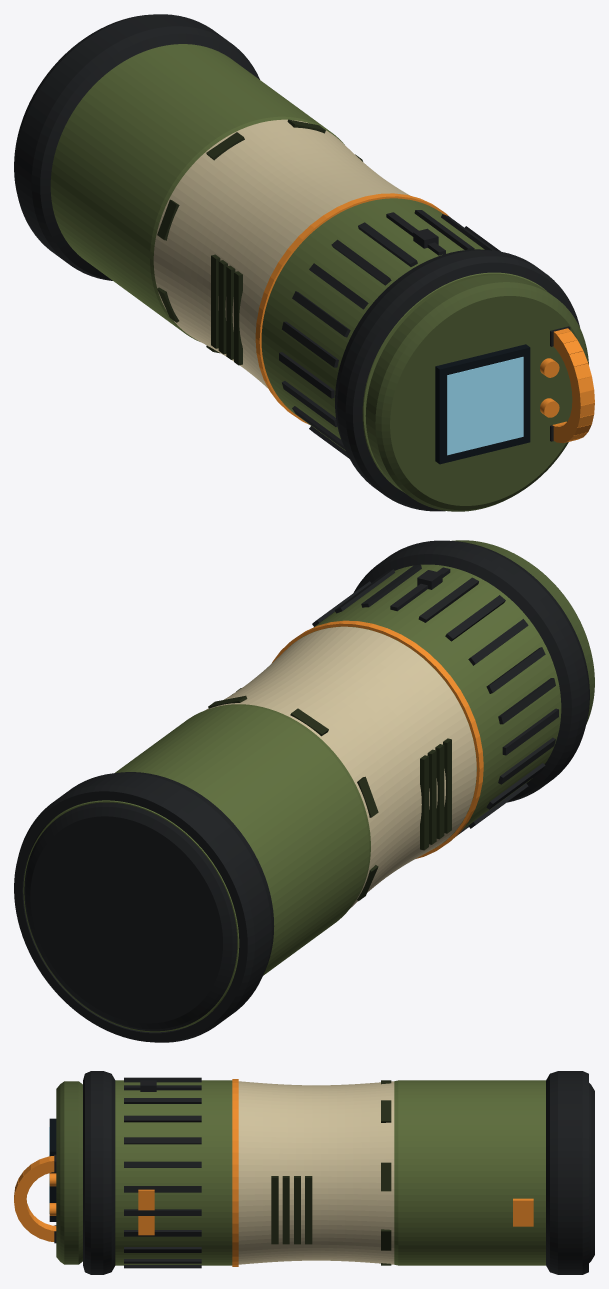
File: thermox_bottle_trail.obj
The picture shows the model from 3 angles, top to bottom: view 1: azimuth 30°, elevation 25°; view 2: azimuth 150°, elevation 25°; view 3: azimuth 270°, elevation 25°; orthographic projection. The views are drawn at different scales.
Parts seen in each view (by area): view 1: body_lower, lid, body_waist, body_upper, bumper_bottom, bumper_top, oled_screen, oled_1_5in, accent_ring, exhaust_slot_rear_2, exhaust_slot_rear_1, exhaust_slot_rear_3 (+5 smaller); view 2: base_pad, body_lower, body_waist, body_upper, bumper_bottom, bumper_top, accent_ring, lid, exhaust_slot_rear_3, exhaust_slot_rear_1, exhaust_slot_rear_2, exhaust_slot_rear_4 (+4 smaller); view 3: body_lower, body_waist, body_upper, bumper_bottom, bumper_top, lid, accent_ring, base_pad, nameplate, grip_rib_04, grip_rib_05, usb_cover (+16 smaller).
Part boxes in pixels (left/top/right/bottom): body_lower: left=50, top=44, right=344, bottom=341; lid: left=365, top=275, right=588, bottom=511; body_waist: left=153, top=119, right=409, bottom=388; body_upper: left=261, top=198, right=546, bottom=490; bumper_bottom: left=14, top=14, right=259, bottom=280; bumper_top: left=335, top=249, right=579, bottom=511; oled_screen: left=447, top=357, right=523, bottom=455; oled_1_5in: left=435, top=344, right=530, bottom=464; accent_ring: left=255, top=193, right=449, bottom=424; exhaust_slot_rear_2: left=218, top=260, right=227, bottom=354; exhaust_slot_rear_1: left=211, top=254, right=220, bottom=348; exhaust_slot_rear_3: left=226, top=265, right=235, bottom=359; base_pad: left=24, top=802, right=237, bottom=1031; body_lower: left=23, top=704, right=370, bottom=1032; body_waist: left=204, top=626, right=476, bottom=908; body_upper: left=290, top=564, right=561, bottom=847; bumper_bottom: left=14, top=772, right=274, bottom=1042; bumper_top: left=353, top=540, right=589, bottom=802; accent_ring: left=272, top=620, right=483, bottom=858; lid: left=452, top=540, right=594, bottom=723; exhaust_slot_rear_3: left=435, top=744, right=444, bottom=839; exhaust_slot_rear_1: left=420, top=755, right=428, bottom=850; exhaust_slot_rear_2: left=427, top=749, right=436, bottom=844; exhaust_slot_rear_4: left=443, top=738, right=451, bottom=833; body_lower: left=394, top=1080, right=545, bottom=1265; body_waist: left=238, top=1081, right=394, bottom=1264; body_upper: left=115, top=1080, right=232, bottom=1265; bumper_bottom: left=546, top=1071, right=588, bottom=1274; bumper_top: left=83, top=1071, right=115, bottom=1274; lid: left=56, top=1081, right=82, bottom=1264; accent_ring: left=232, top=1079, right=238, bottom=1266; base_pad: left=589, top=1083, right=594, bottom=1262; nameplate: left=138, top=1189, right=154, bottom=1235; grip_rib_04: left=124, top=1137, right=201, bottom=1144; grip_rib_05: left=124, top=1115, right=201, bottom=1122; usb_cover: left=513, top=1198, right=533, bottom=1226.
Size of the model in its own units: 99.6 by 99.6 by 284.
